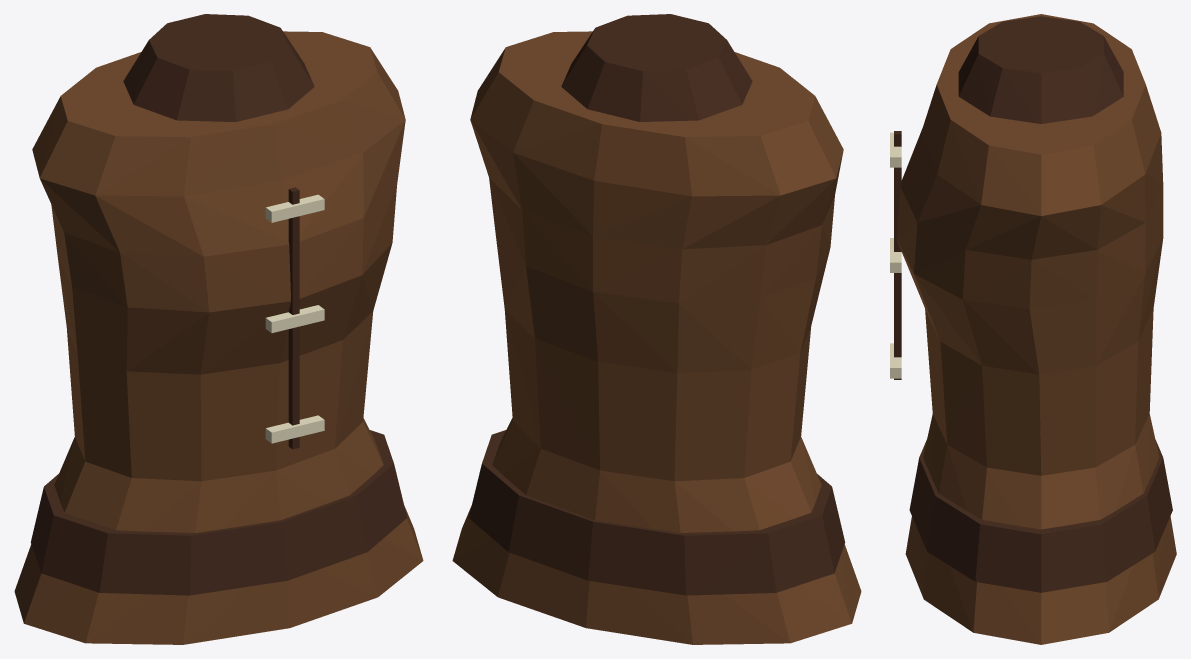
Rendered from gear_hard_body_torso_f.glb.
3 views of the same model, side by side, from view 1: azimuth 30°, elevation 25°; view 2: azimuth 150°, elevation 25°; view 3: azimuth 270°, elevation 25° (orthographic). The views are drawn at different scales.
Parts seen in each view (by area): view 1: gear_hard_body_torso_f; view 2: gear_hard_body_torso_f; view 3: gear_hard_body_torso_f.
Boxes of the visible parts, bbox=[...] form: gear_hard_body_torso_f: bbox=[14, 14, 423, 644]; gear_hard_body_torso_f: bbox=[452, 14, 861, 644]; gear_hard_body_torso_f: bbox=[890, 14, 1176, 644].
Bounding box in the file's own units: 0.444 × 0.58 × 0.296.
